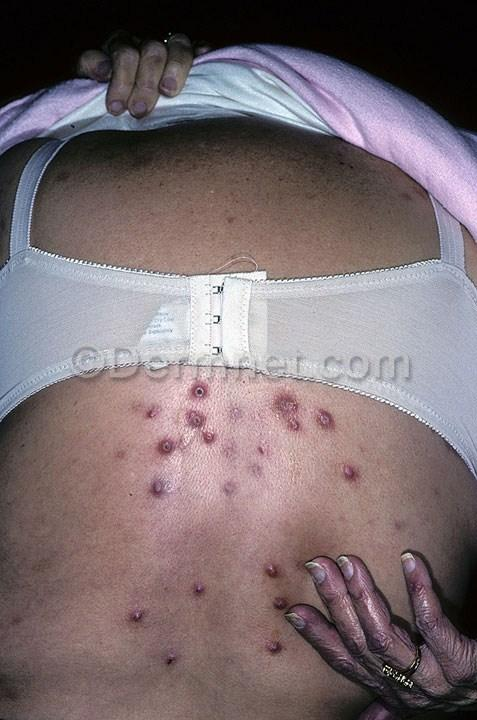Eczema: (123, 392, 315, 590), (86, 556, 208, 720), (290, 378, 448, 496), (46, 114, 203, 211), (227, 549, 312, 675), (350, 491, 435, 539), (380, 177, 444, 221)
